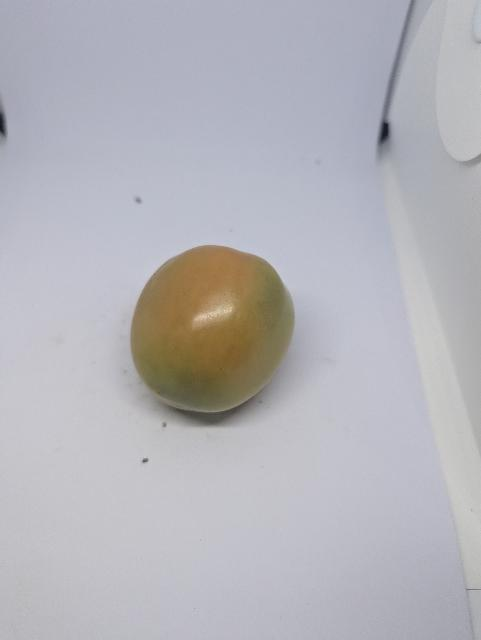breaker: (131, 246, 295, 412)
